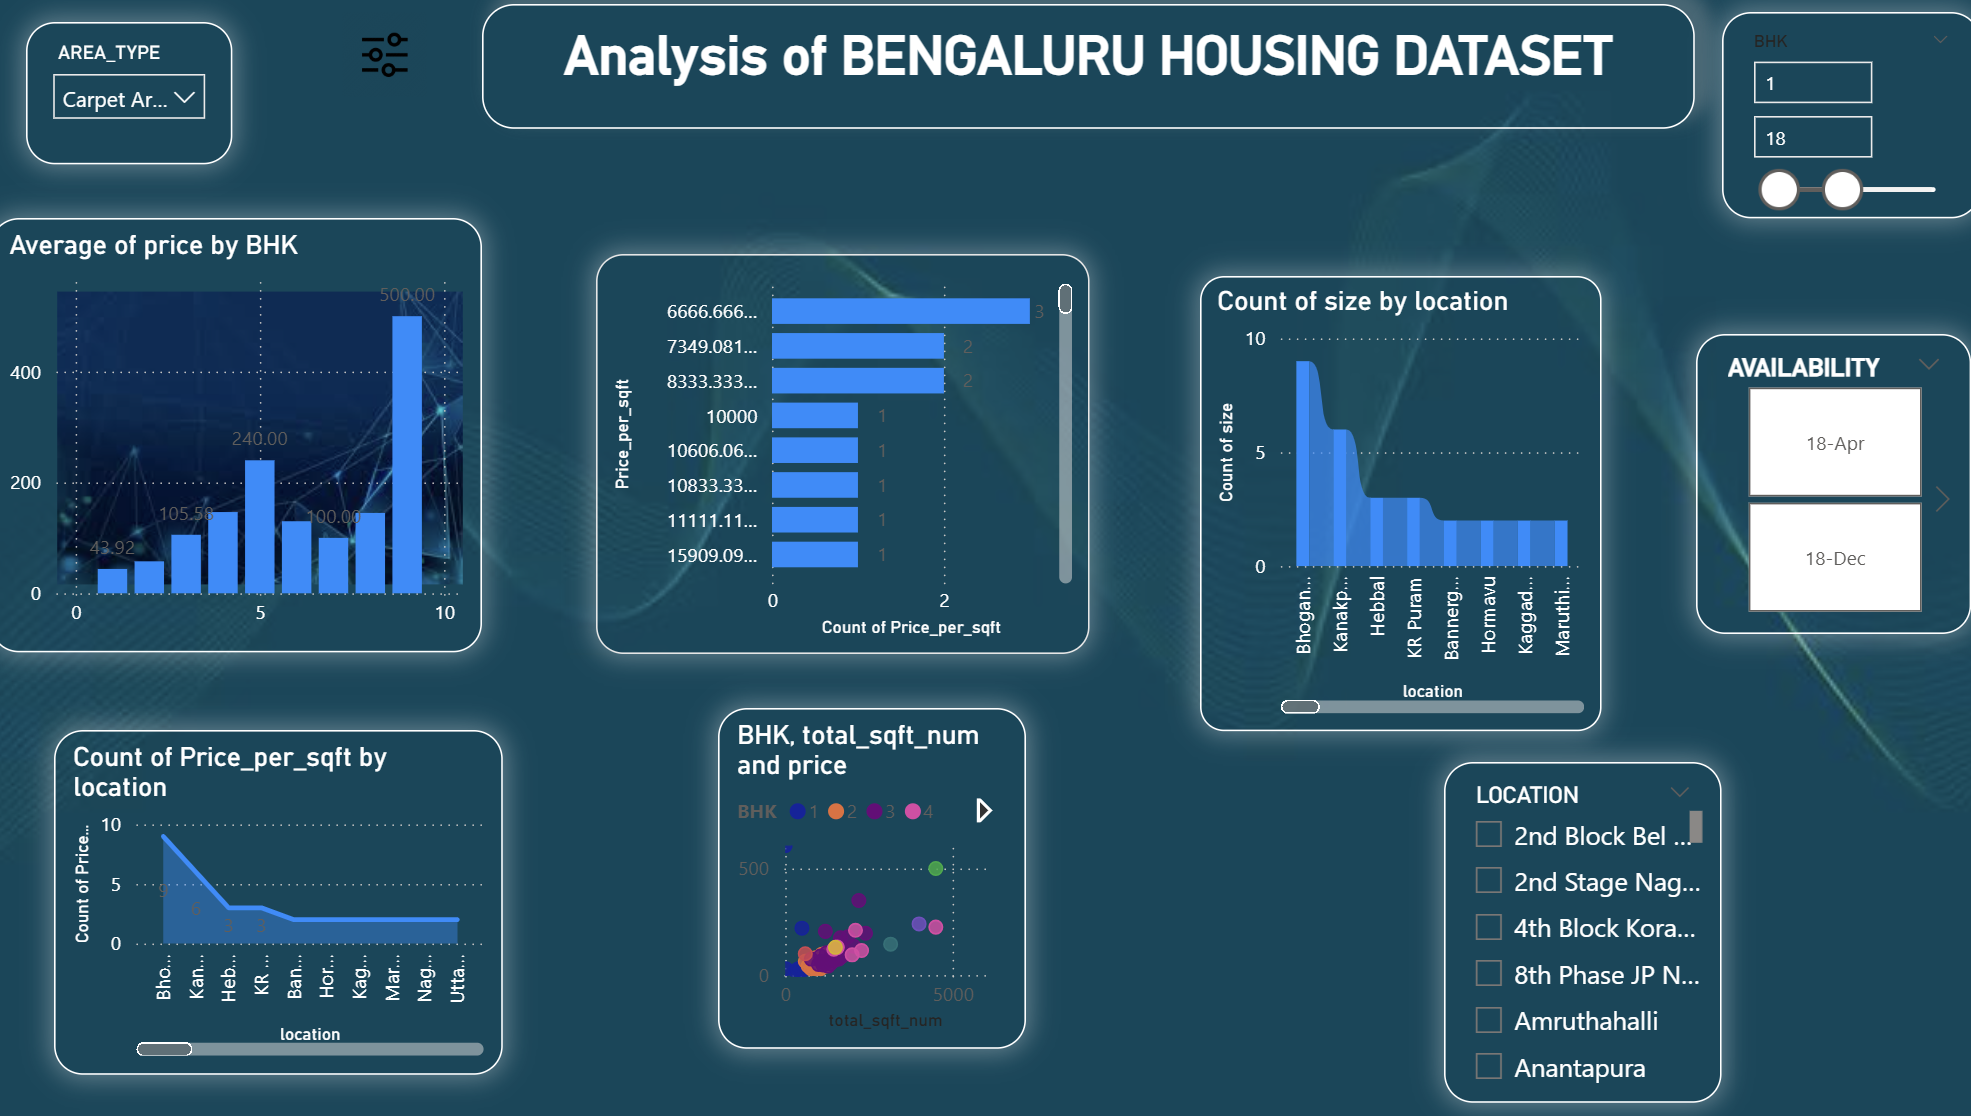

Layout of this report page (visuals, bound fields, positions):
{"tool":"powerbi","page":{"name":"Dashboard","canvas":[1280,720],"ordinal":0},"visuals":[{"type":"textbox","box":[309,10.5,758.2,78],"z":2000},{"type":"clusteredColumnChart","fields":{"Category":["Bengaluru_House_Data_new.BHK"],"Y":["Avg(Bengaluru_House_Data_new.price)"]},"box":[1.3,144.1,307.3,271.6],"z":3000},{"type":"clusteredBarChart","fields":{"Category":["Bengaluru_House_Data_new.Price_per_sqft"],"Y":["CountNonNull(Bengaluru_House_Data_new.Price_per_sqft)"]},"box":[379.9,165.7,308.5,249.9],"z":4000},{"type":"ribbonChart","fields":{"Category":["Bengaluru_House_Data_new.location"],"Y":["CountNonNull(Bengaluru_House_Data_new.size)"]},"box":[757.3,179.8,251.2,284.3],"z":5000},{"type":"stackedAreaChart","fields":{"Category":["Bengaluru_House_Data_new.location"],"Y":["CountNonNull(Bengaluru_House_Data_new.Price_per_sqft)"]},"box":[40.8,464.1,280.5,215.5],"z":6000},{"type":"scatterChart","fields":{"X":["Bengaluru_House_Data_new.total_sqft_num"],"Y":["Bengaluru_House_Data_new.price"],"Series":["Bengaluru_House_Data_new.BHK"]},"box":[456.4,450,192.5,212.9],"z":7000},{"type":"slicer","fields":{"Values":["Bengaluru_House_Data_new.location"]},"box":[910.3,483.2,173.4,212.9],"z":8000},{"type":"slicer","fields":{"Values":["Bengaluru_House_Data_new.BHK"]},"box":[1083.8,15,161.2,128.8],"z":9000},{"type":"slicer","fields":{"Values":["Bengaluru_House_Data_new.area_type"]},"box":[24.2,21.7,128.8,89.2],"z":10000},{"type":"slicer","fields":{"Values":["Bengaluru_House_Data_new.availability"]},"box":[1067.1,216.7,172.1,187.4],"z":11000}]}

Visuals, with their boxes in screenshot pixels (x1, y1, x2, y2), scaled from the page's 1280x720 canvas onto the 1971x1116 screenshot:
textbox: bbox=(476, 16, 1643, 137)
clusteredColumnChart - Bengaluru_House_Data_new.BHK x Avg(Bengaluru_House_Data_new.price): bbox=(2, 223, 475, 644)
clusteredBarChart - Bengaluru_House_Data_new.Price_per_sqft x CountNonNull(Bengaluru_House_Data_new.Price_per_sqft): bbox=(585, 257, 1060, 644)
ribbonChart - Bengaluru_House_Data_new.location x CountNonNull(Bengaluru_House_Data_new.size): bbox=(1166, 279, 1553, 719)
stackedAreaChart - Bengaluru_House_Data_new.location x CountNonNull(Bengaluru_House_Data_new.Price_per_sqft): bbox=(63, 719, 495, 1053)
scatterChart - Bengaluru_House_Data_new.total_sqft_num x Bengaluru_House_Data_new.price: bbox=(703, 698, 999, 1027)
slicer - Bengaluru_House_Data_new.location: bbox=(1402, 749, 1669, 1079)
slicer - Bengaluru_House_Data_new.BHK: bbox=(1669, 23, 1917, 223)
slicer - Bengaluru_House_Data_new.area_type: bbox=(37, 34, 236, 172)
slicer - Bengaluru_House_Data_new.availability: bbox=(1643, 336, 1908, 626)
